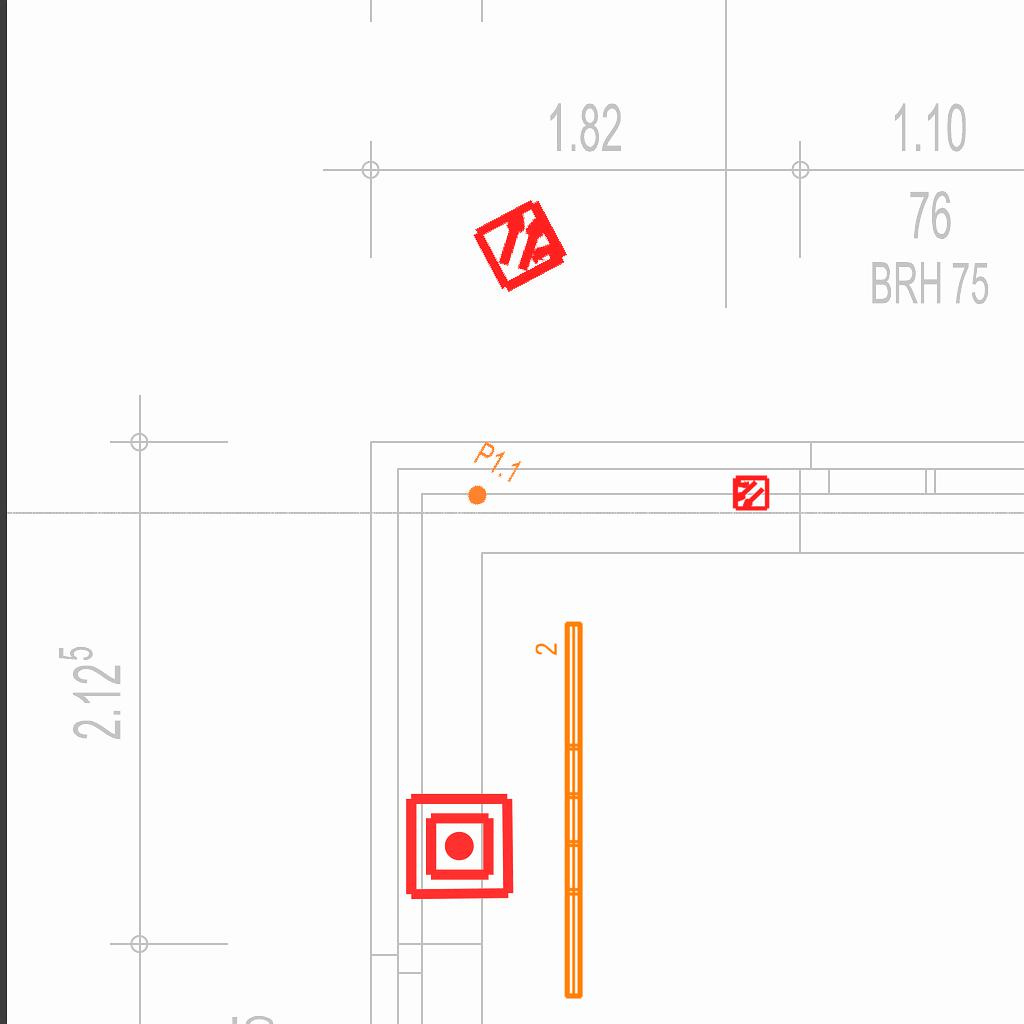Ambulanz_Pendelleuchte_LED: (533, 617, 589, 1004)
Downlight_LED_Einbauleuchten_Flur: (453, 438, 525, 518)
NAM-Nichtautomatischer_Melder: (403, 790, 516, 903)
OT_Multisensormelder_(Kombination_RMO_WMD): (446, 168, 599, 321), (722, 465, 778, 521)
